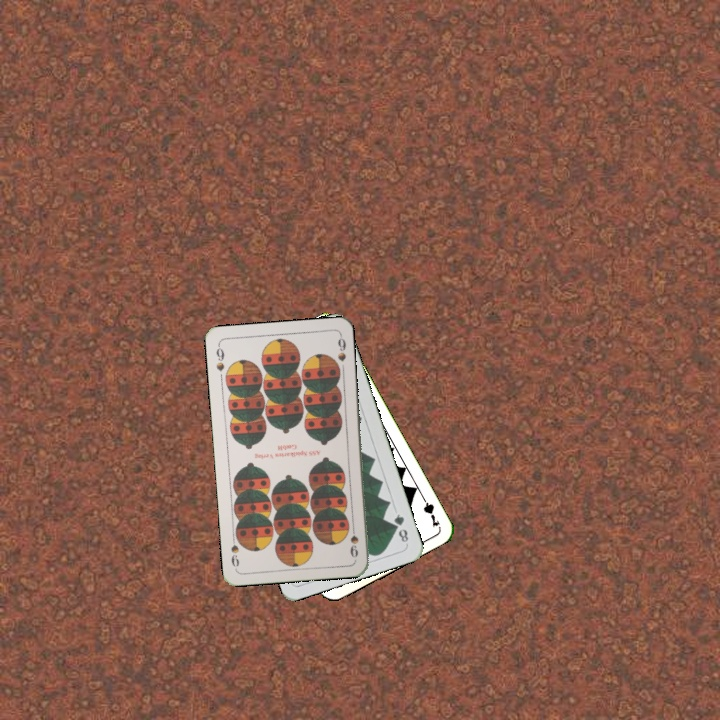G7: (417, 491, 442, 530)
G8: (390, 510, 411, 545)
S9: (346, 520, 361, 560), (212, 341, 227, 374)
